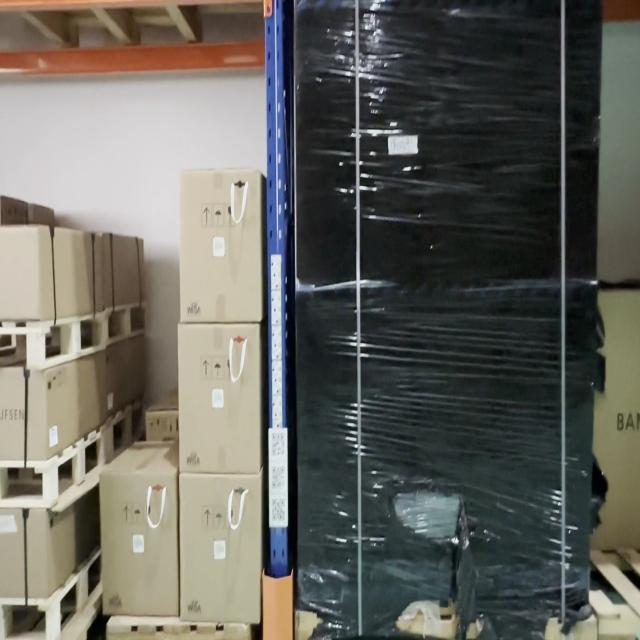box: (300, 302, 590, 611), (294, 2, 599, 285), (178, 320, 264, 473), (178, 474, 260, 624), (180, 174, 260, 319), (98, 470, 178, 613)
